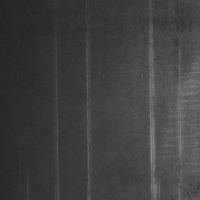scratches: (147, 12, 160, 200), (83, 17, 96, 199), (52, 35, 62, 199)
